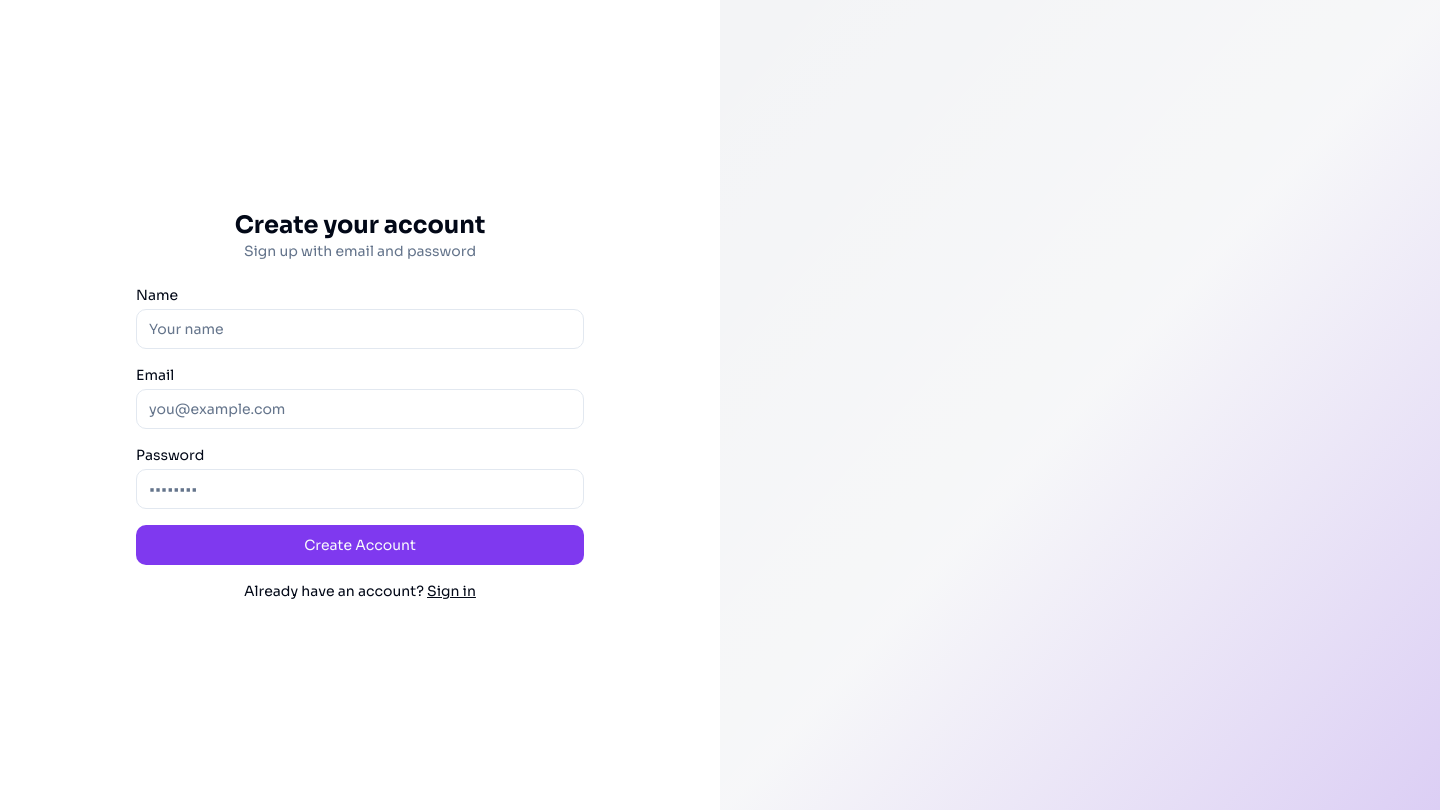
Signup page › shows validation errors for empty fields
Click the button "Create Account" at coordinates (360, 545), box x1=136 y1=525 x2=584 y2=565
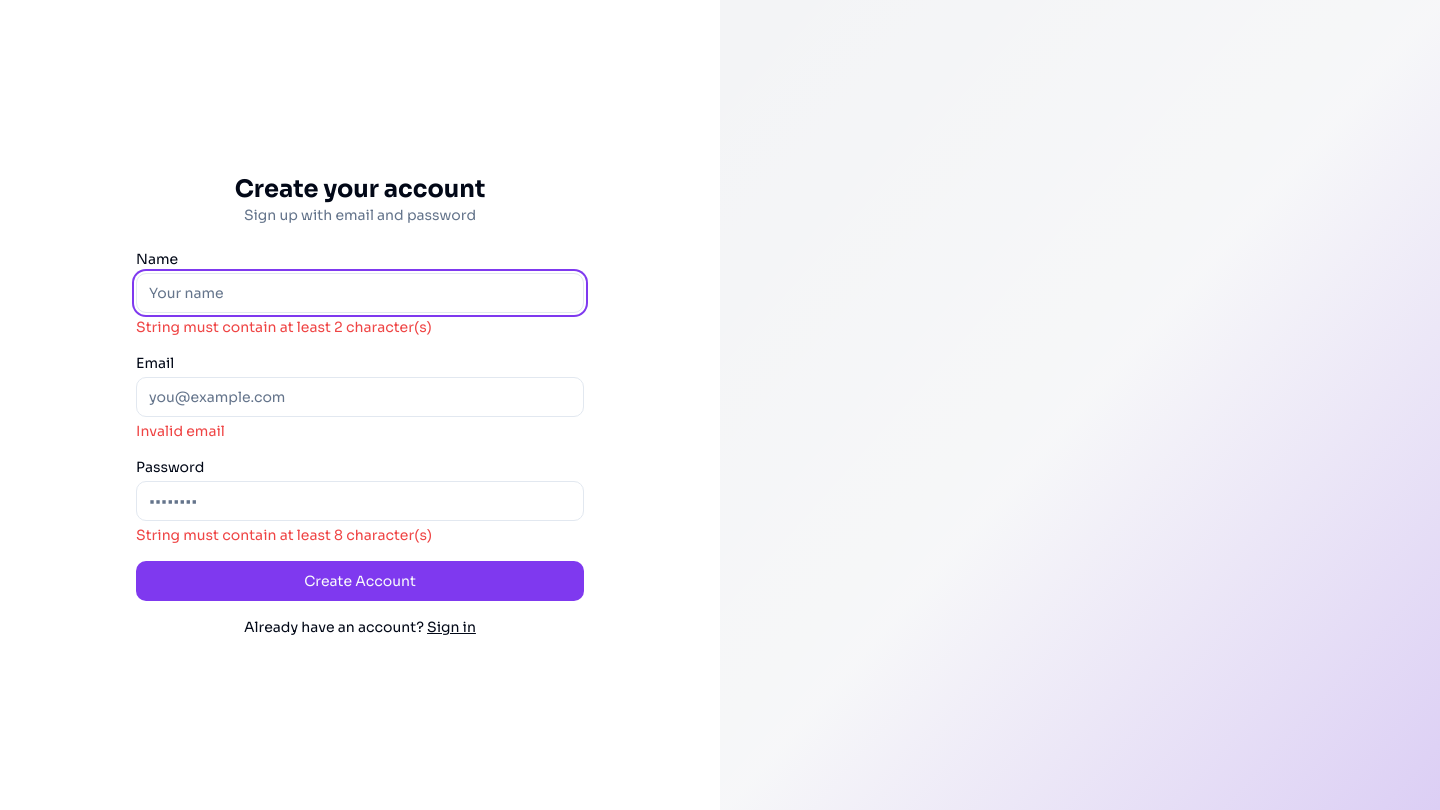
expect the text "String must contain at least 2 character(s)" is shown: met, box x1=136 y1=318 x2=432 y2=336
expect the text "Invalid email" is shown: met, box x1=136 y1=422 x2=225 y2=440
expect the text "String must contain at least 8 character(s)" is shown: met, box x1=136 y1=526 x2=432 y2=544
